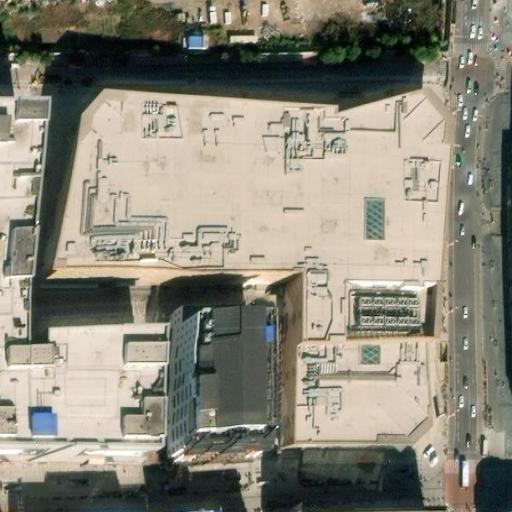building: (56, 114, 449, 459), (178, 335, 251, 466), (284, 499, 428, 512), (41, 496, 147, 512)
